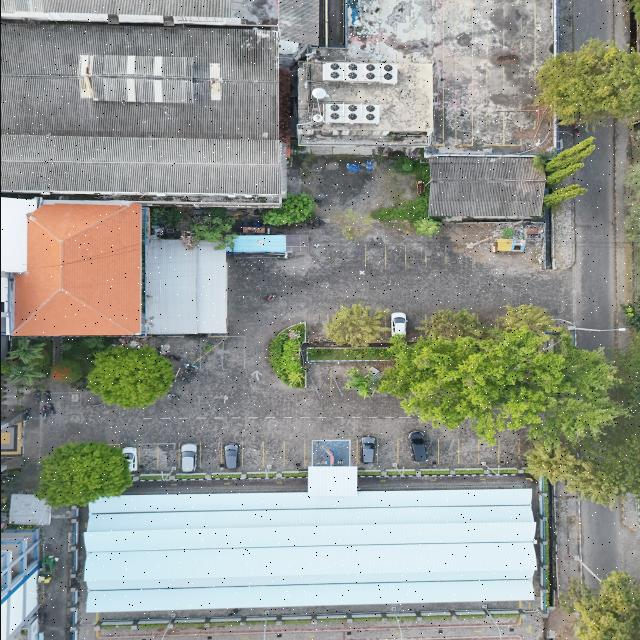Tree: (34, 449, 130, 506), (84, 352, 178, 408), (317, 301, 393, 353), (181, 210, 243, 258), (407, 218, 437, 236)
